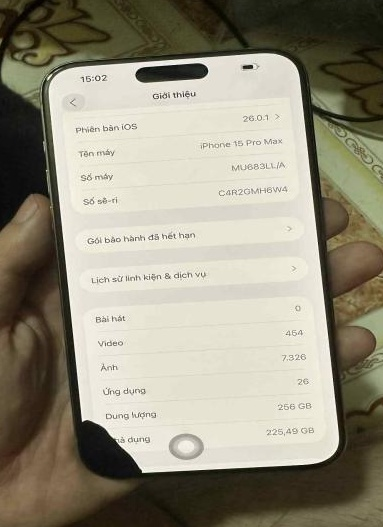screen_defect: (60, 411, 166, 498)
